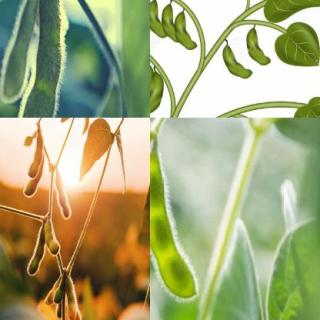soya: (150, 154, 199, 301), (18, 0, 62, 117), (0, 0, 38, 102), (221, 46, 253, 80), (246, 28, 272, 66), (27, 224, 45, 276), (175, 12, 198, 51), (27, 129, 43, 176), (161, 4, 179, 44), (55, 170, 70, 218), (150, 72, 165, 117), (150, 0, 166, 38), (44, 220, 60, 256), (64, 276, 76, 320), (22, 178, 42, 198), (53, 278, 66, 304), (44, 288, 53, 306), (73, 312, 85, 319), (57, 306, 61, 320)
